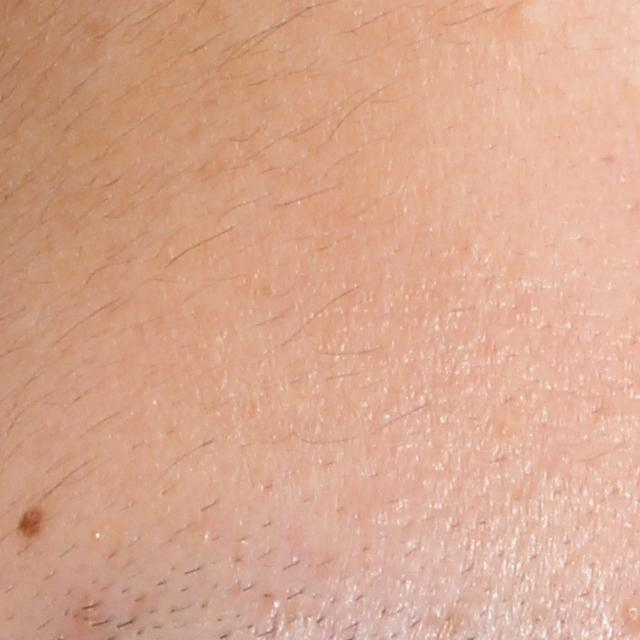nevus: (14, 504, 43, 540)
